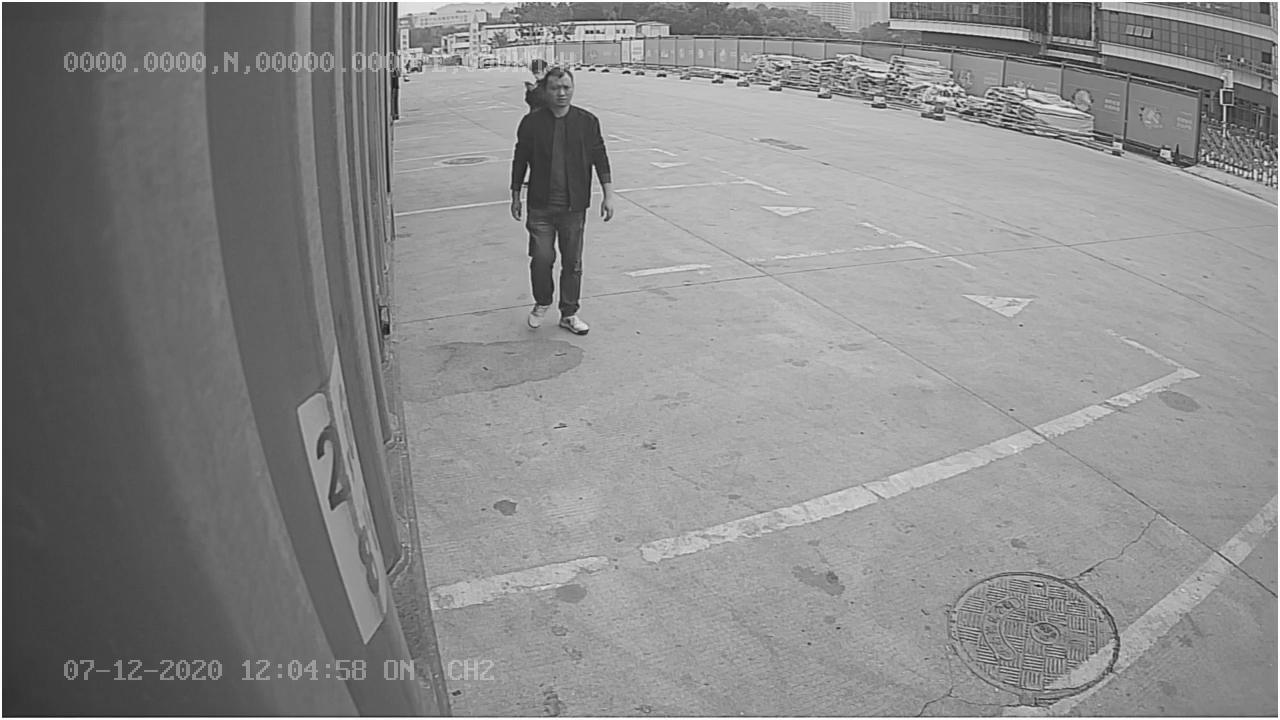person: (503, 68, 616, 334)
